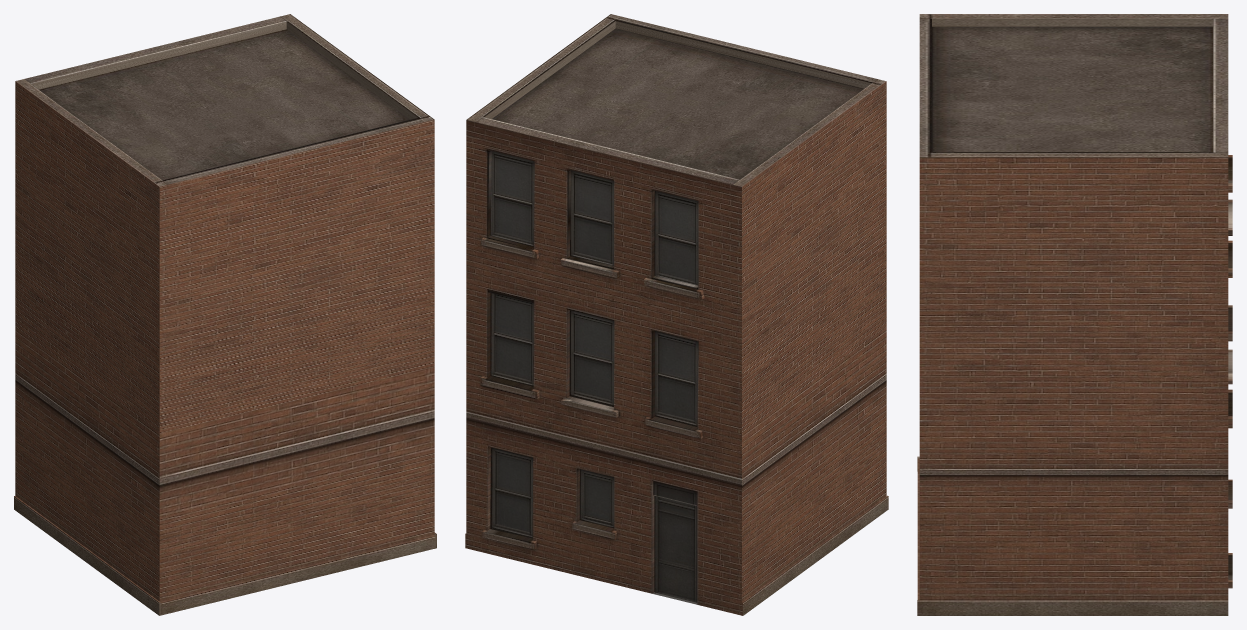
The model's file is lowpoly_urban_building.glb.
3 renders of one model, left to right at view 1: azimuth 30°, elevation 25°; view 2: azimuth 150°, elevation 25°; view 3: azimuth 270°, elevation 25°, orthographic. The views are drawn at different scales.
Visible parts, largest first — view 1: Building; view 2: Building; view 3: Building.
Boxes of the visible parts, x1,y1,x2,y2 form: Building: (14,14,436,615); Building: (465,14,888,615); Building: (917,14,1232,615).
Size of the model in its own units: 6.99 by 10.31 by 6.43.
1 material, 1 textured.
